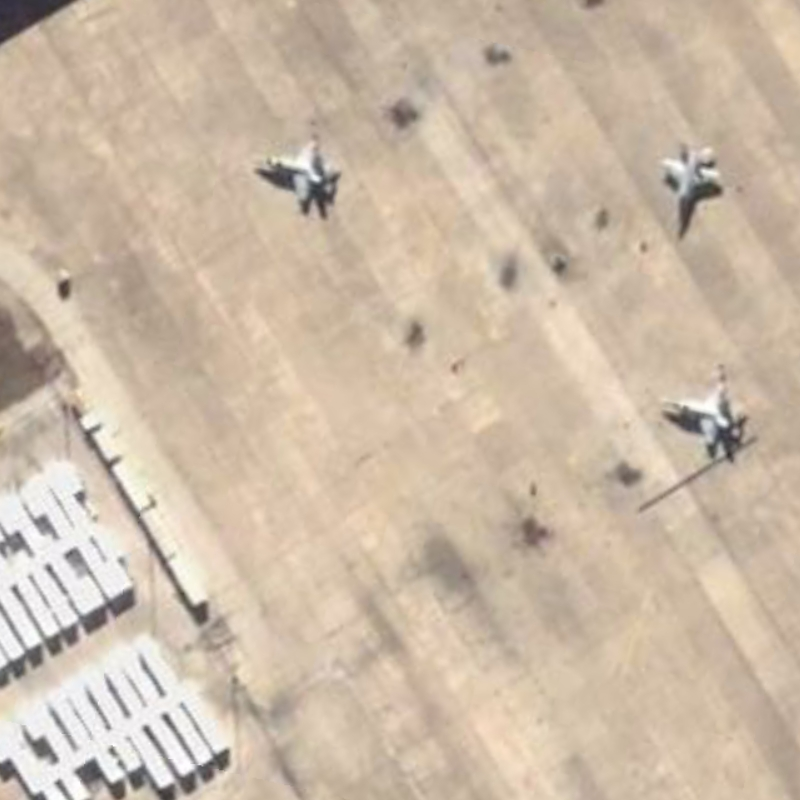A16: (645, 369, 757, 466), (243, 125, 358, 217), (648, 133, 735, 246)
